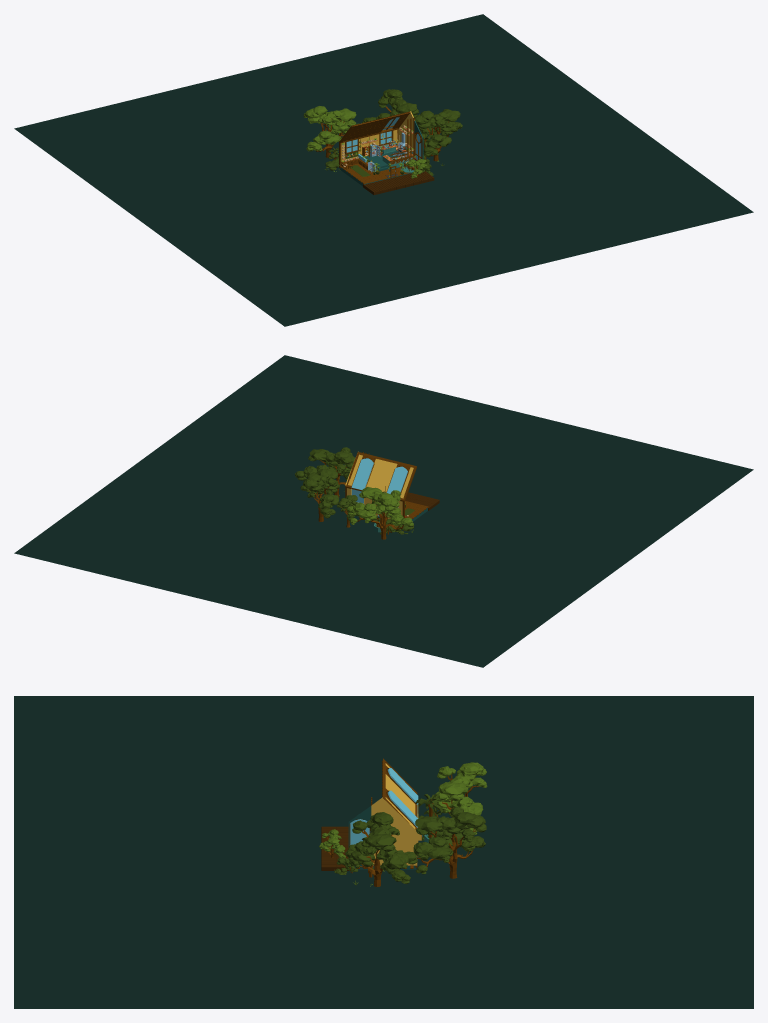
The model's file is kitchen_size_placed-transformed.glb.
3 views of the same model, one above another, from view 1: azimuth 30°, elevation 25°; view 2: azimuth 150°, elevation 25°; view 3: azimuth 270°, elevation 25° (orthographic). The views are drawn at different scales.
Parts seen in each view (by area): view 1: Mesh.001; view 2: Mesh.001; view 3: Mesh.001.
Boxes of the visible parts, x1,y1,x2,y2 form: Mesh.001: [14, 14, 753, 326]; Mesh.001: [14, 355, 753, 667]; Mesh.001: [14, 696, 753, 1008].
Bounding box in the file's own units: 21.37 × 3.72 × 21.37.
